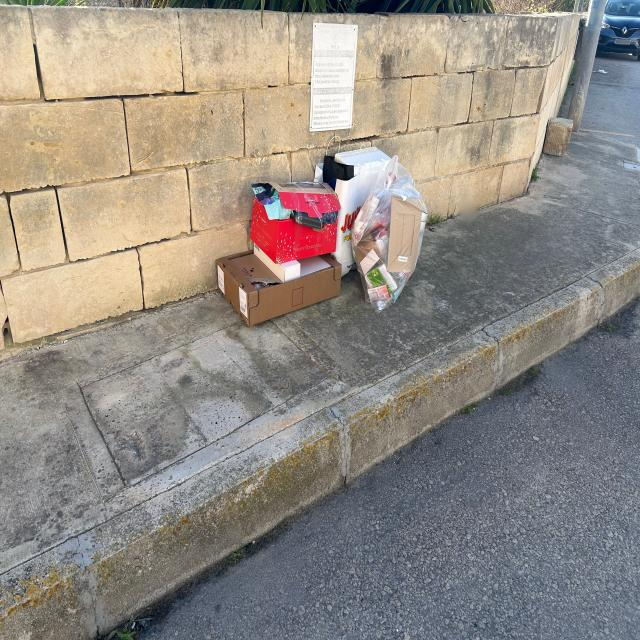grey_bag: (348, 154, 429, 315)
other_waste: (208, 249, 343, 330), (248, 177, 340, 261)
